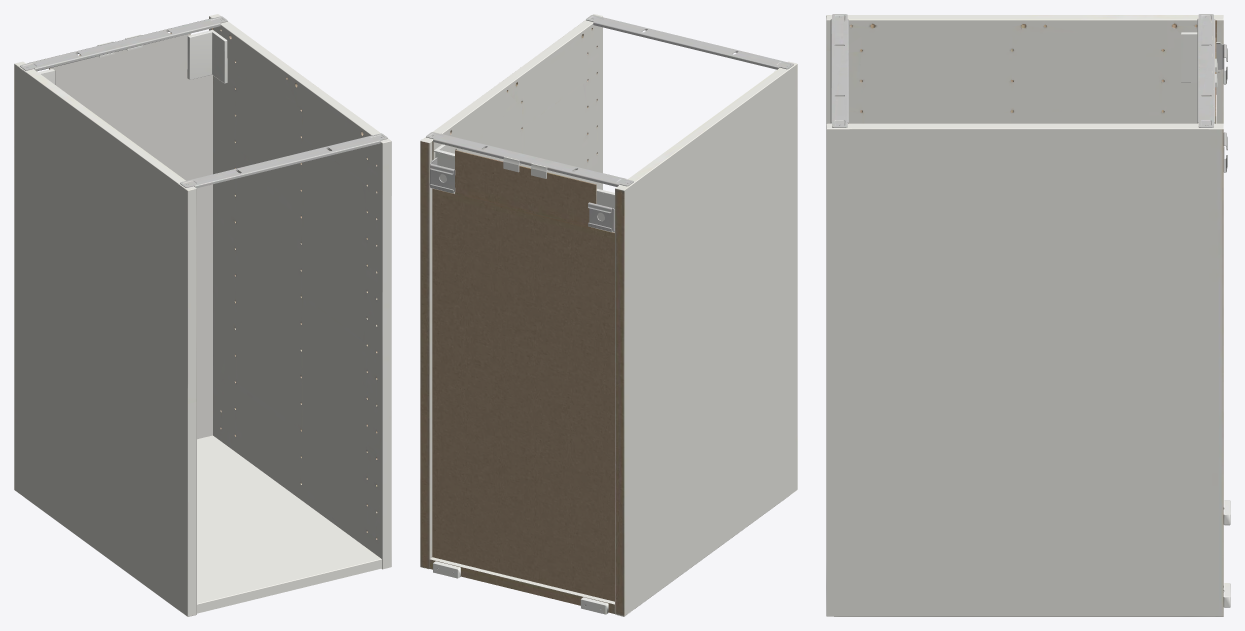
File: METOD Rangement, blanc, 40x60x80 cm.glb
3 renders of one model, left to right at view 1: azimuth 30°, elevation 25°; view 2: azimuth 150°, elevation 25°; view 3: azimuth 270°, elevation 25°, orthographic. The views are drawn at different scales.
Visible parts, largest first — view 1: model; view 2: model; view 3: model.
Boxes of the visible parts, left/top/right/bottom form: model: left=14, top=14, right=391, bottom=616; model: left=420, top=14, right=797, bottom=616; model: left=826, top=14, right=1230, bottom=616.
Size of the model in its own units: 0.4 by 0.802 by 0.5999.
Materials: 1 (1 with a texture image).
